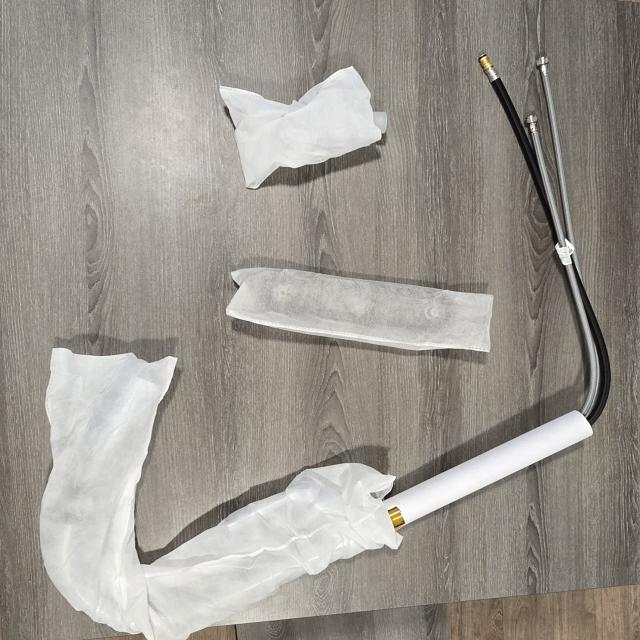1c: (40, 54, 610, 640)
2c: (220, 66, 387, 189)
4c: (226, 268, 493, 352)
